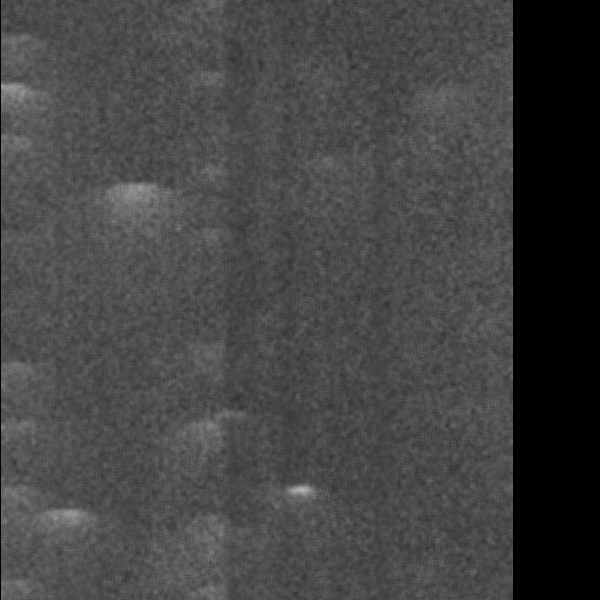spark: (333, 506, 399, 600), (100, 462, 143, 552), (22, 21, 80, 87), (375, 18, 422, 81), (264, 449, 318, 493), (405, 176, 461, 218), (59, 200, 90, 274), (51, 546, 97, 590)
